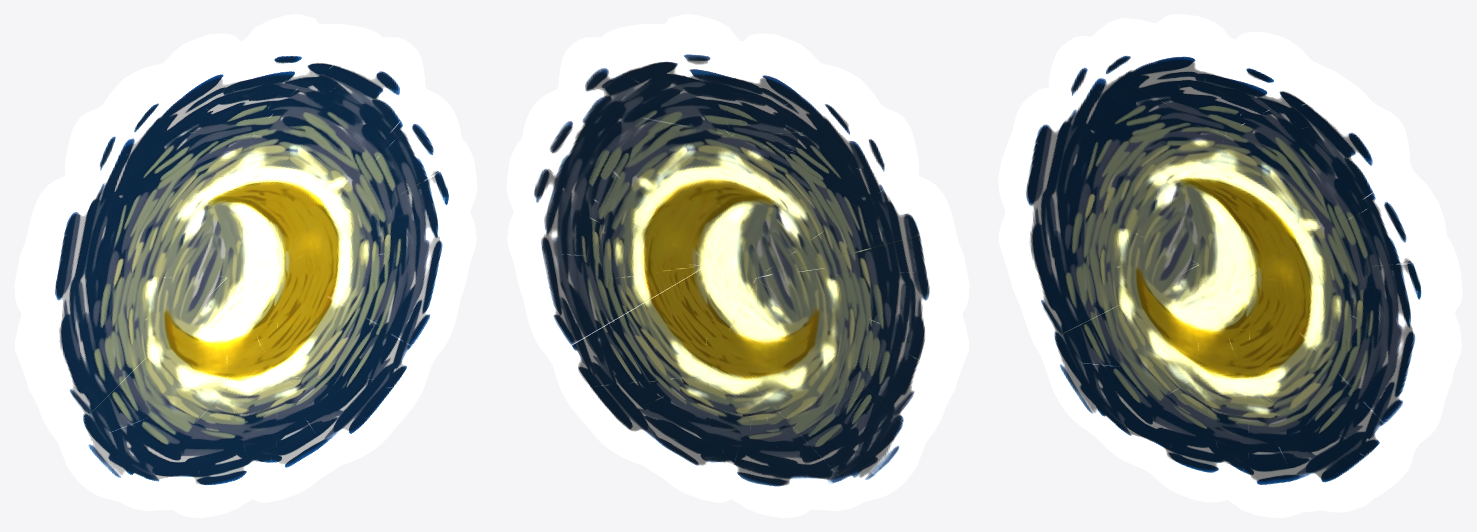
The model's file is gogh-moon.glb.
3 renders of one model, left to right at view 1: azimuth 30°, elevation 25°; view 2: azimuth 150°, elevation 25°; view 3: azimuth 330°, elevation 25°, orthographic.
Parts seen in each view (by area): view 1: Mesh_0.001; view 2: Mesh_0.001; view 3: Mesh_0.001.
Boxes of the visible parts, bbox=[...] form: Mesh_0.001: bbox=[14, 14, 477, 517]; Mesh_0.001: bbox=[506, 14, 969, 517]; Mesh_0.001: bbox=[998, 14, 1462, 517].
Bounding box in the file's own units: 0.12 × 0.12 × 0.00813.
Materials: 1 (1 with a texture image).
